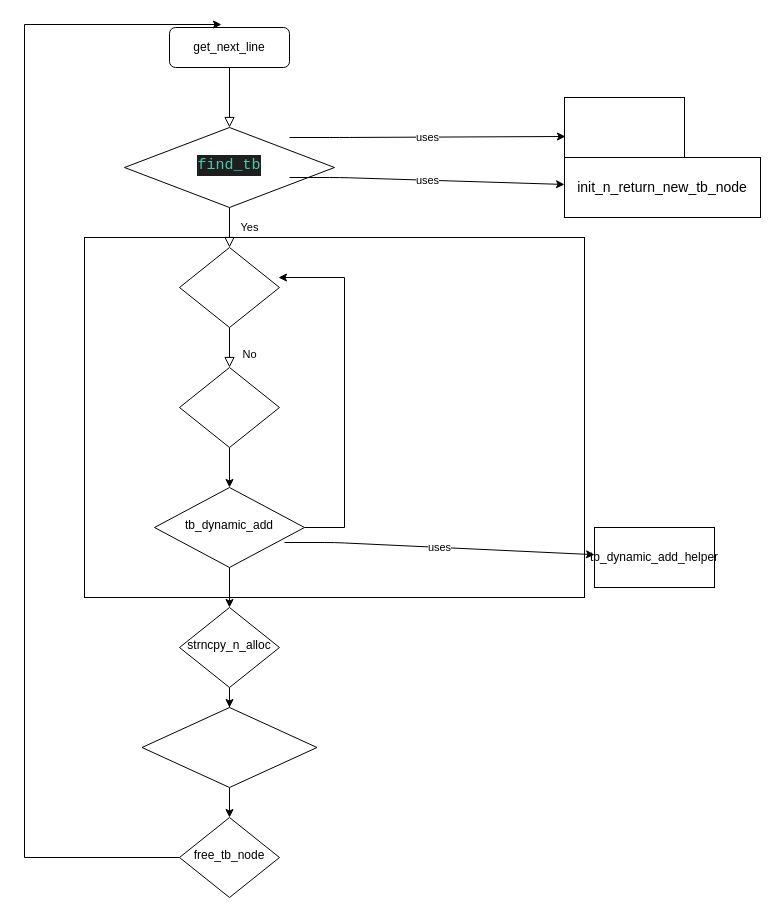
The diagram is 778 pixels wide and 915 high, and some of its shapes have lost their labels. The shapes that lost their labels are listed below. From the top down, each one's centre as x and y in pixels, then its label:
At point 624,127: "return_n_free_tb_node".
At point 229,287: "find_tb_newline".
At point 229,407: "read".
At point 229,747: "move_tb_arr_n_cpy".
